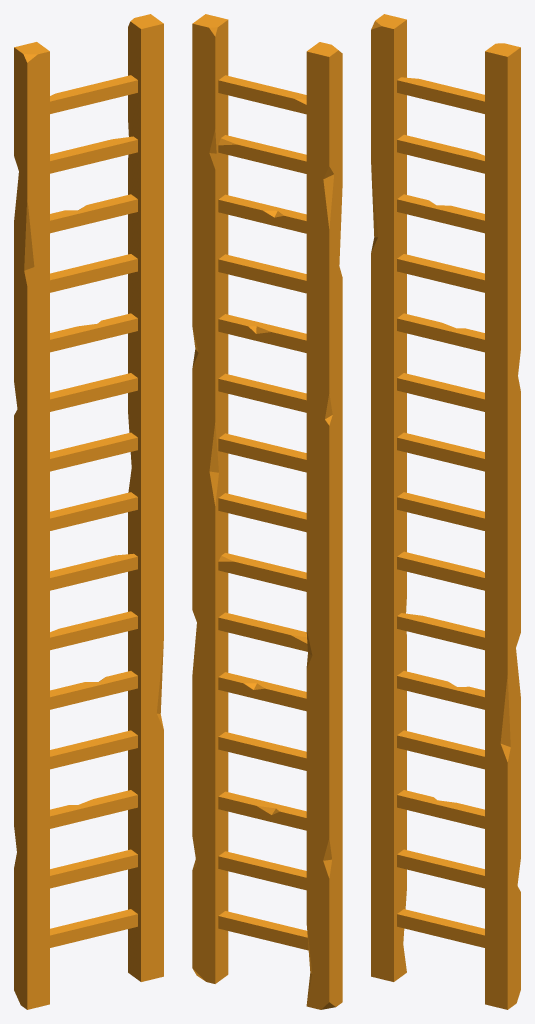
File: SM_Prop_Ladder_1x4_01P.fbx
3 renders of one model, left to right at view 1: azimuth 30°, elevation 25°; view 2: azimuth 150°, elevation 25°; view 3: azimuth 330°, elevation 25°, orthographic.
Visible parts, largest first — view 1: SM_Prop_Ladder_1x4_01P; view 2: SM_Prop_Ladder_1x4_01P; view 3: SM_Prop_Ladder_1x4_01P.
Boxes of the visible parts, x1,y1,x2,y2 form: SM_Prop_Ladder_1x4_01P: (14,14,163,1009); SM_Prop_Ladder_1x4_01P: (192,14,342,1009); SM_Prop_Ladder_1x4_01P: (371,14,520,1009).
Bounding box in the file's own units: 60 × 400 × 10.
